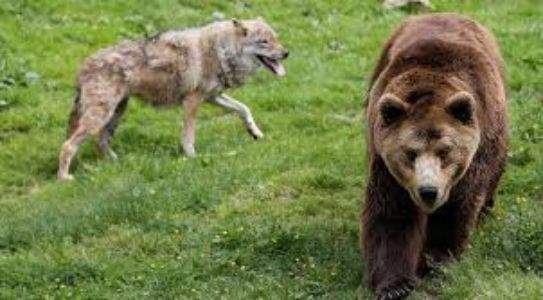bear: (352, 12, 511, 291)
wolf: (59, 17, 290, 169)
